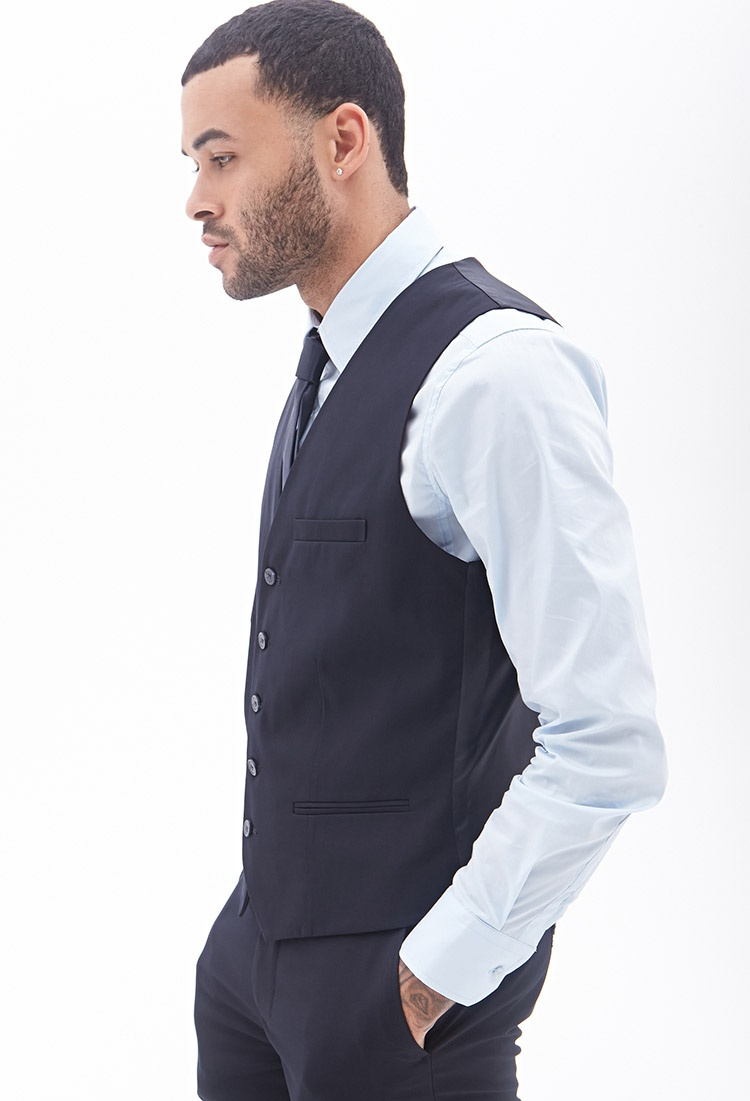F_waistcoat: (225, 260, 556, 925)
